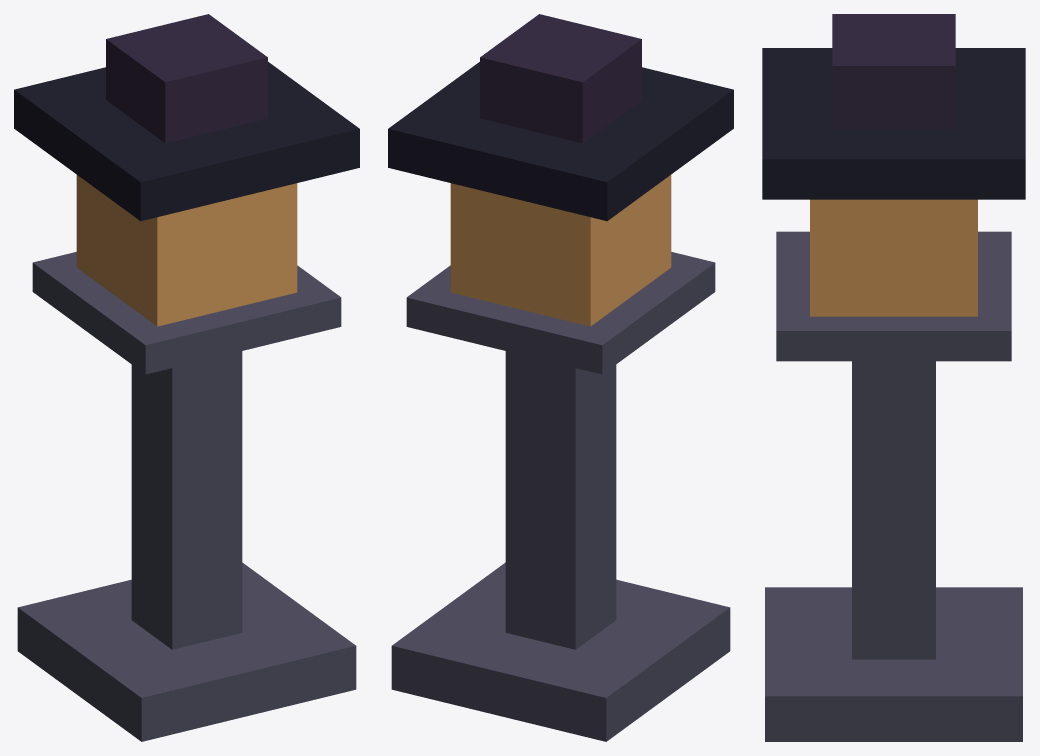
Rendered from shrine_stone_lantern.obj.
3 renders of one model, left to right at view 1: azimuth 30°, elevation 25°; view 2: azimuth 150°, elevation 25°; view 3: azimuth 270°, elevation 25°, orthographic. The views are drawn at different scales.
Parts seen in each view (by area): view 1: shrine_stone_lantern_00, shrine_stone_lantern_01, shrine_stone_lantern_04, shrine_stone_lantern_03, shrine_stone_lantern_05, shrine_stone_lantern_02; view 2: shrine_stone_lantern_00, shrine_stone_lantern_01, shrine_stone_lantern_04, shrine_stone_lantern_03, shrine_stone_lantern_05, shrine_stone_lantern_02; view 3: shrine_stone_lantern_00, shrine_stone_lantern_04, shrine_stone_lantern_01, shrine_stone_lantern_03, shrine_stone_lantern_02, shrine_stone_lantern_05.
Boxes of the visible parts, x1,y1,x2,y2 form: shrine_stone_lantern_00: [17, 562, 356, 741]; shrine_stone_lantern_01: [131, 351, 242, 649]; shrine_stone_lantern_04: [14, 62, 359, 221]; shrine_stone_lantern_03: [76, 175, 297, 326]; shrine_stone_lantern_05: [106, 14, 267, 143]; shrine_stone_lantern_02: [32, 252, 341, 374]; shrine_stone_lantern_00: [391, 562, 730, 741]; shrine_stone_lantern_01: [505, 351, 616, 649]; shrine_stone_lantern_04: [388, 62, 733, 221]; shrine_stone_lantern_03: [450, 175, 671, 326]; shrine_stone_lantern_05: [480, 14, 641, 143]; shrine_stone_lantern_02: [406, 252, 715, 374]; shrine_stone_lantern_00: [765, 587, 1022, 741]; shrine_stone_lantern_04: [762, 48, 1025, 199]; shrine_stone_lantern_01: [852, 361, 935, 659]; shrine_stone_lantern_03: [810, 199, 977, 316]; shrine_stone_lantern_02: [776, 231, 1011, 361]; shrine_stone_lantern_05: [832, 14, 955, 129].
Size of the model in its own units: 2.35 by 6.38 by 2.35.
